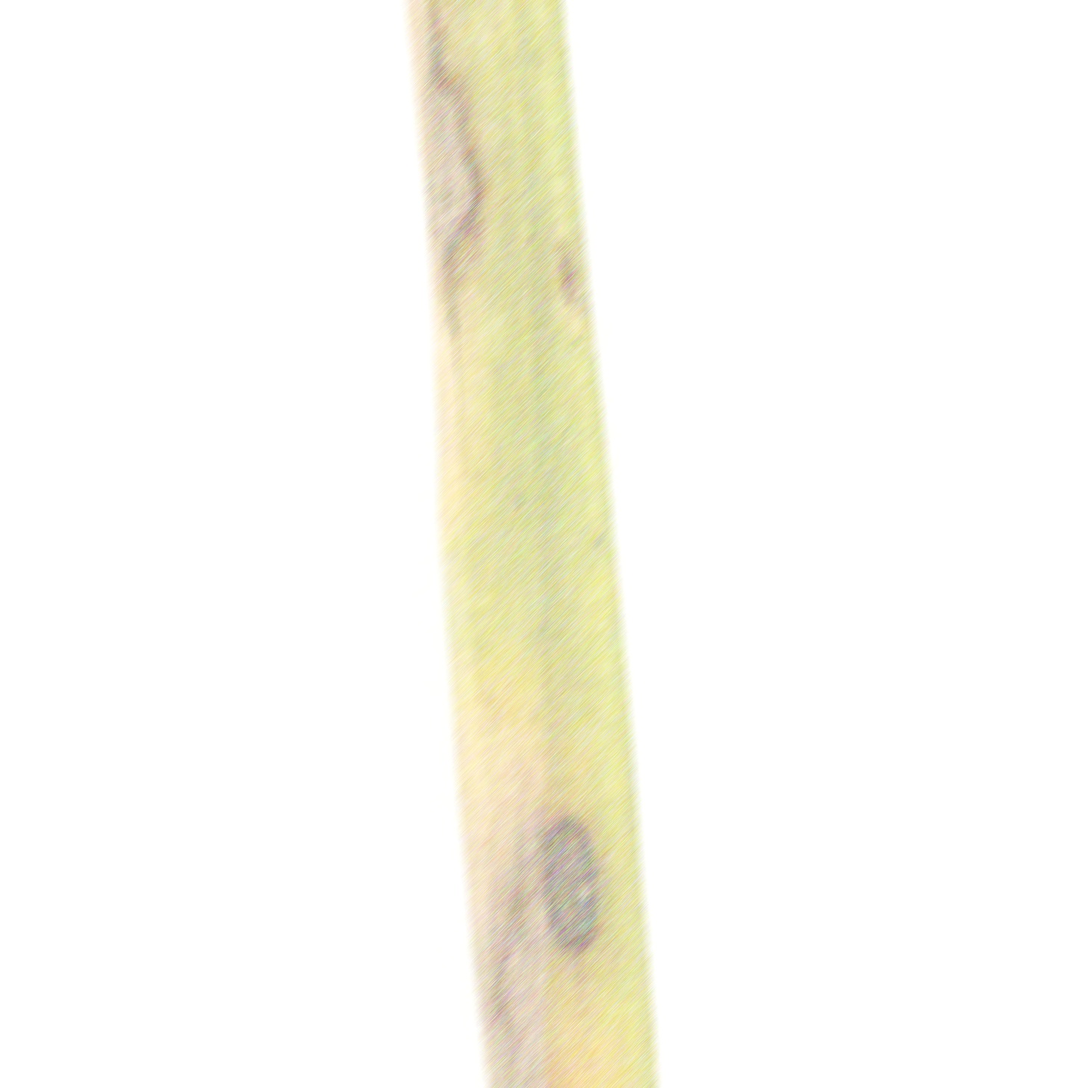Brown_Spot: (494, 730, 623, 996), (387, 13, 487, 331), (548, 220, 597, 315)
